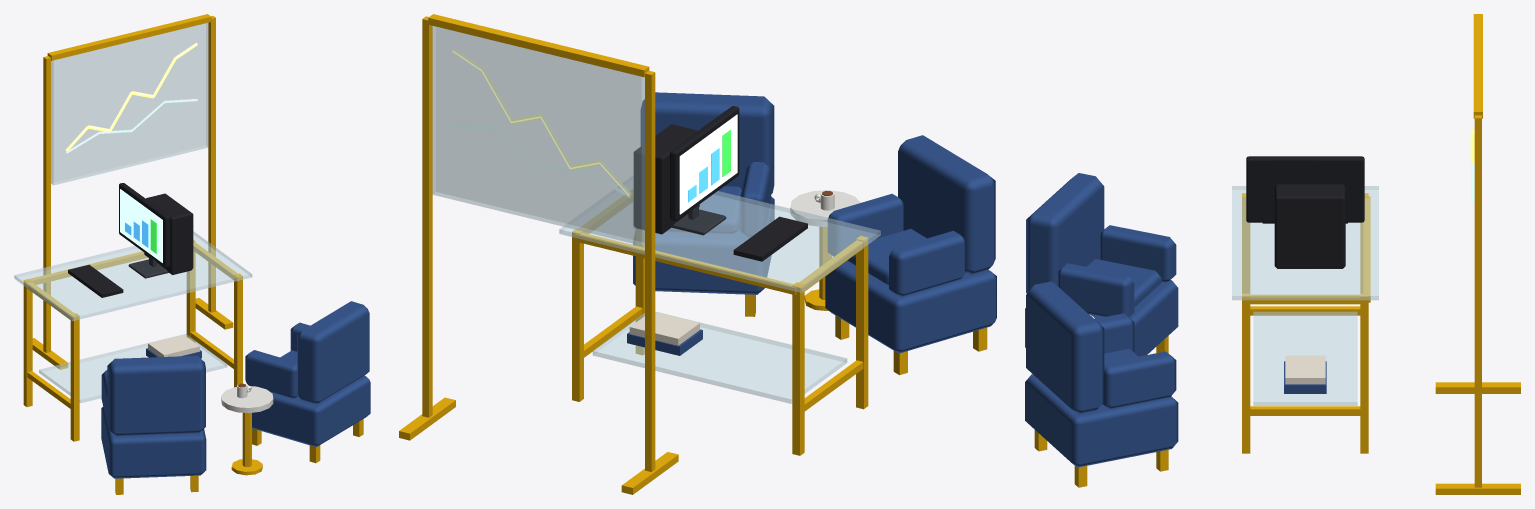
The model's file is station_buffer_2.glb.
3 views of the same model, side by side, from view 1: azimuth 30°, elevation 25°; view 2: azimuth 150°, elevation 25°; view 3: azimuth 270°, elevation 25° (orthographic). The views are drawn at different scales.
Parts seen in each view (by area): view 1: station_buffer_2; view 2: station_buffer_2; view 3: station_buffer_2.
Boxes of the visible parts, x1=… form: station_buffer_2: x1=14, y1=14, x2=370, y2=494; station_buffer_2: x1=399, y1=14, x2=996, y2=494; station_buffer_2: x1=1025, y1=14, x2=1520, y2=494.
Size of the model in its own units: 1.63 by 1.76 by 2.09.
